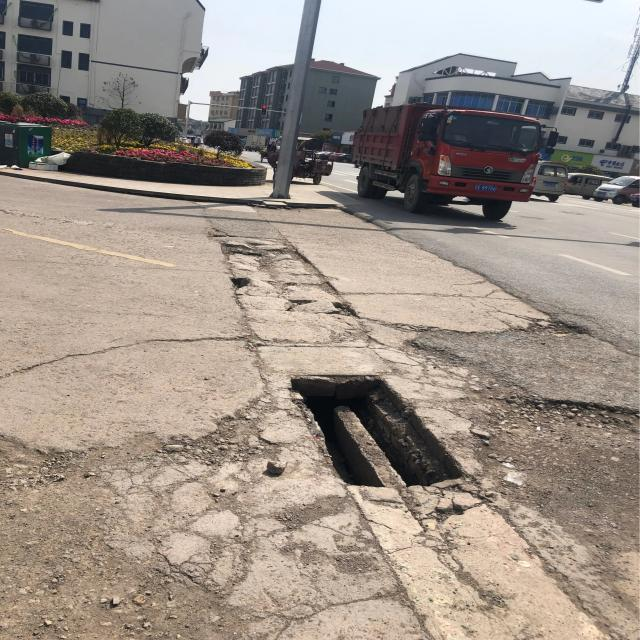Pothole: (282, 374, 474, 502), (214, 240, 374, 322), (519, 394, 640, 448), (514, 317, 595, 344)
